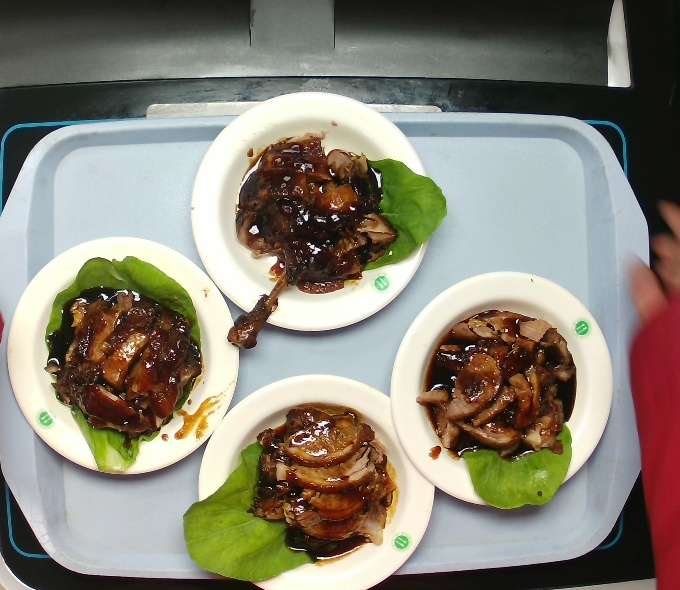wcq-MiZhiYa: (409, 296, 585, 509), (40, 259, 223, 458), (225, 131, 435, 303), (198, 411, 408, 572)
